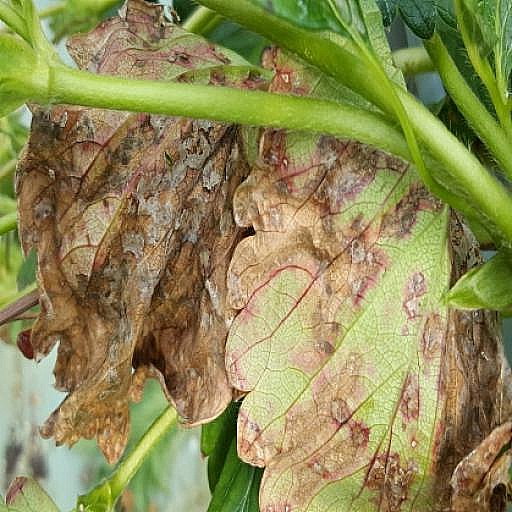Angular Leafspot: (0, 32, 288, 511), (243, 0, 500, 465), (0, 420, 63, 511)
